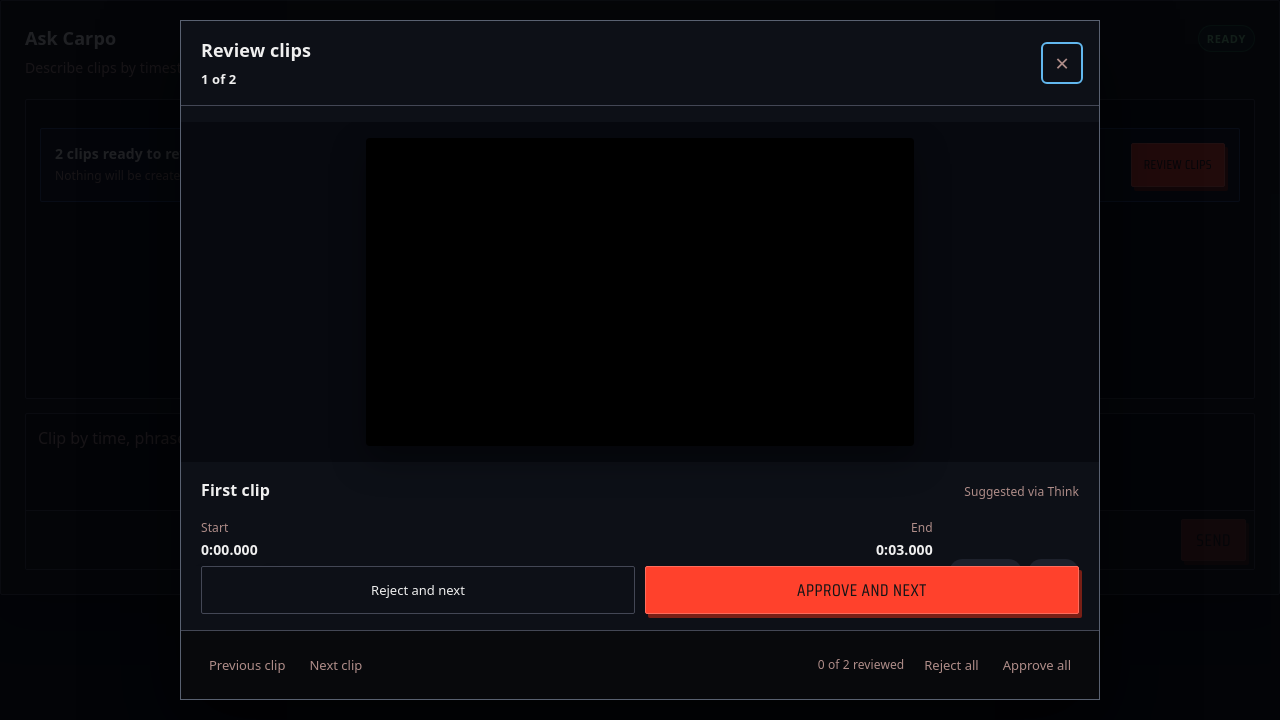
VideoAgentChat › keeps clip decisions reversible until the completed review is submitted
The width and height of the screenshot is (1280, 720).
Click the button "Approve and next" at (862, 590), box [645,566,1079,614]
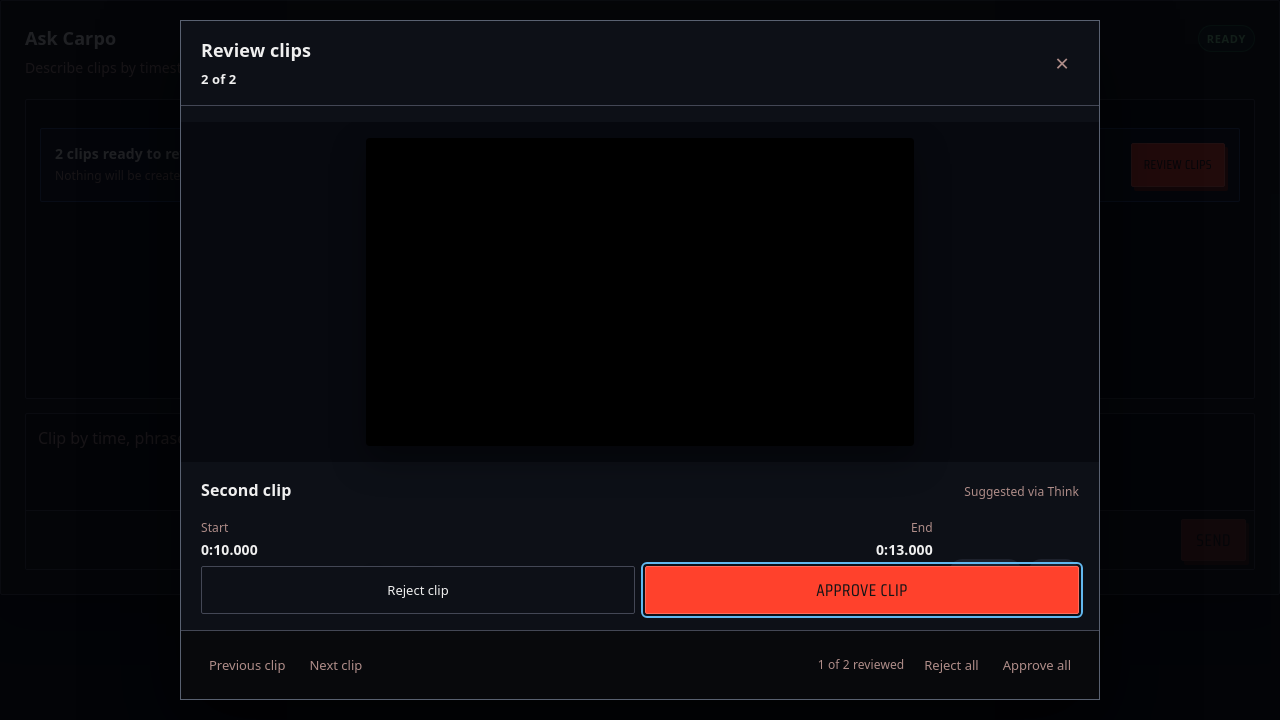
Check: the element with class "clip-review-progress-advance" is shown, box [201,70,236,88]
Click the button "Reject clip" at (418, 590), box [201,566,635,614]
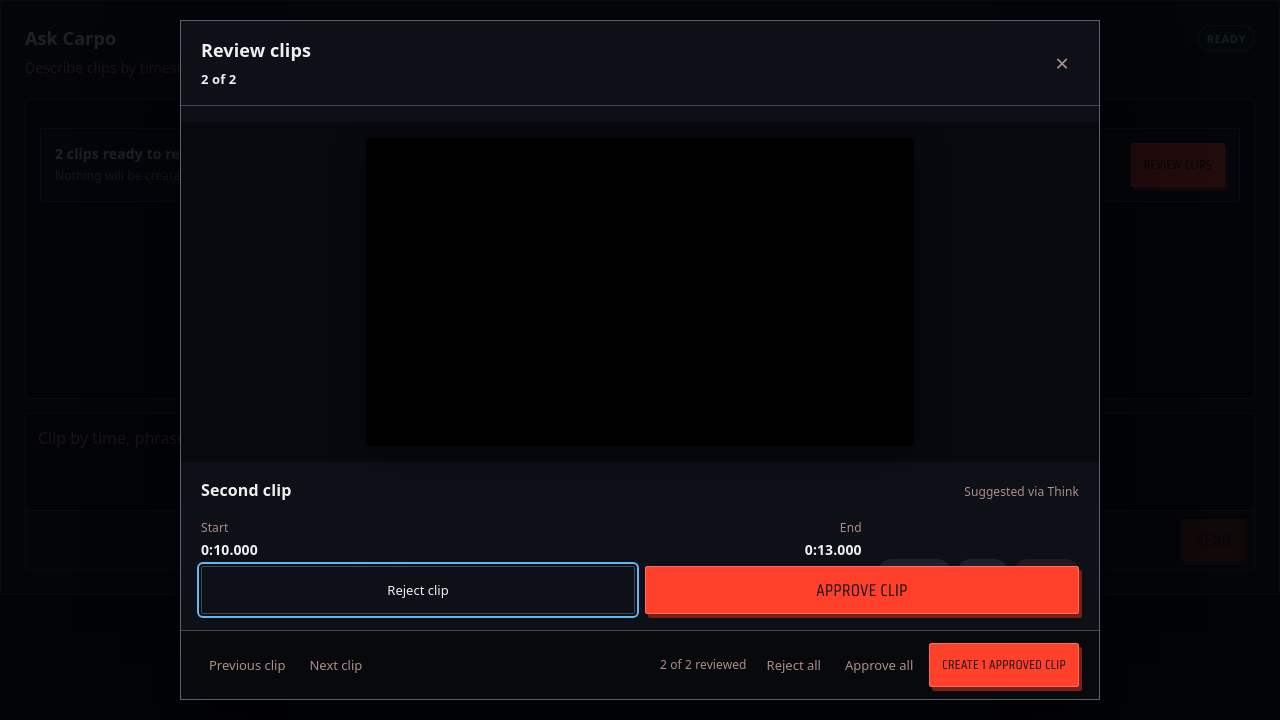
Check: the button "Create 1 approved clip" is shown
Click the button "Create 1 approved clip" at (1004, 665), box [929,643,1079,687]
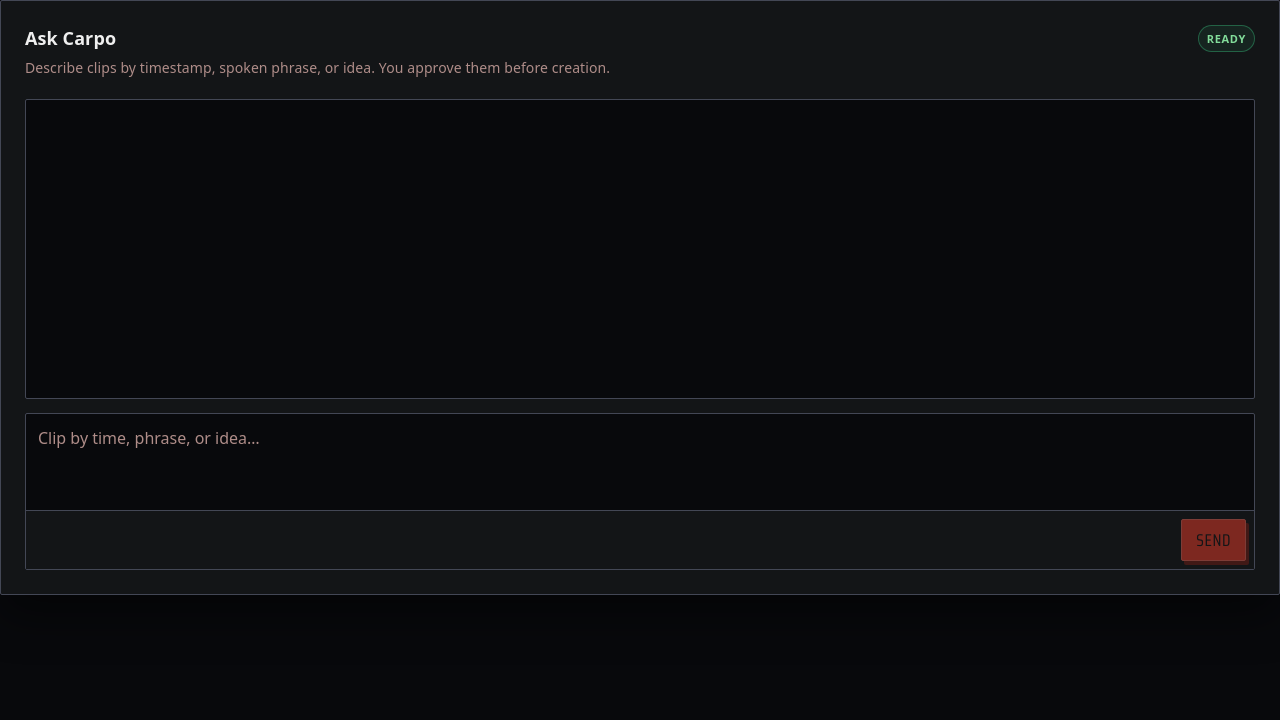
Check: the button "Review clips" is gone
